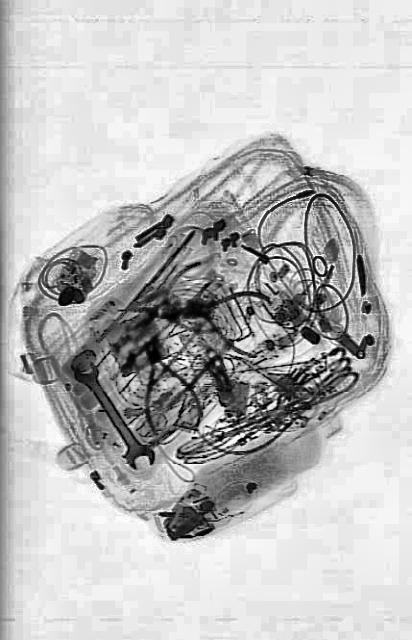Pliers: (126, 324, 204, 446), (180, 276, 268, 360), (139, 250, 214, 336)
Wrench: (68, 347, 158, 481)
